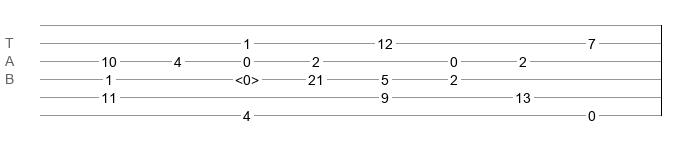0: (243, 54, 251, 64), (450, 54, 458, 64), (588, 108, 596, 118)
1: (105, 72, 113, 82), (243, 36, 251, 46)
10: (101, 54, 117, 64)
11: (101, 90, 117, 100)
12: (377, 36, 393, 46)
13: (515, 90, 531, 100)
2: (312, 54, 320, 64), (450, 72, 458, 82), (519, 54, 527, 64)
21: (308, 72, 324, 82)
4: (174, 54, 182, 64), (243, 108, 251, 118)
5: (381, 72, 389, 82)
7: (588, 36, 596, 46)
9: (381, 90, 389, 100)
harmonic: (235, 72, 259, 82)
